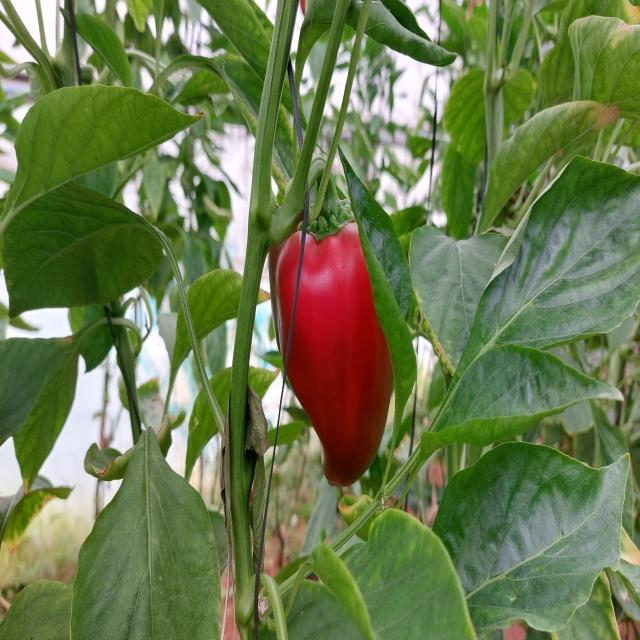Red-Ready-to-Harvest: (255, 221, 412, 484)
